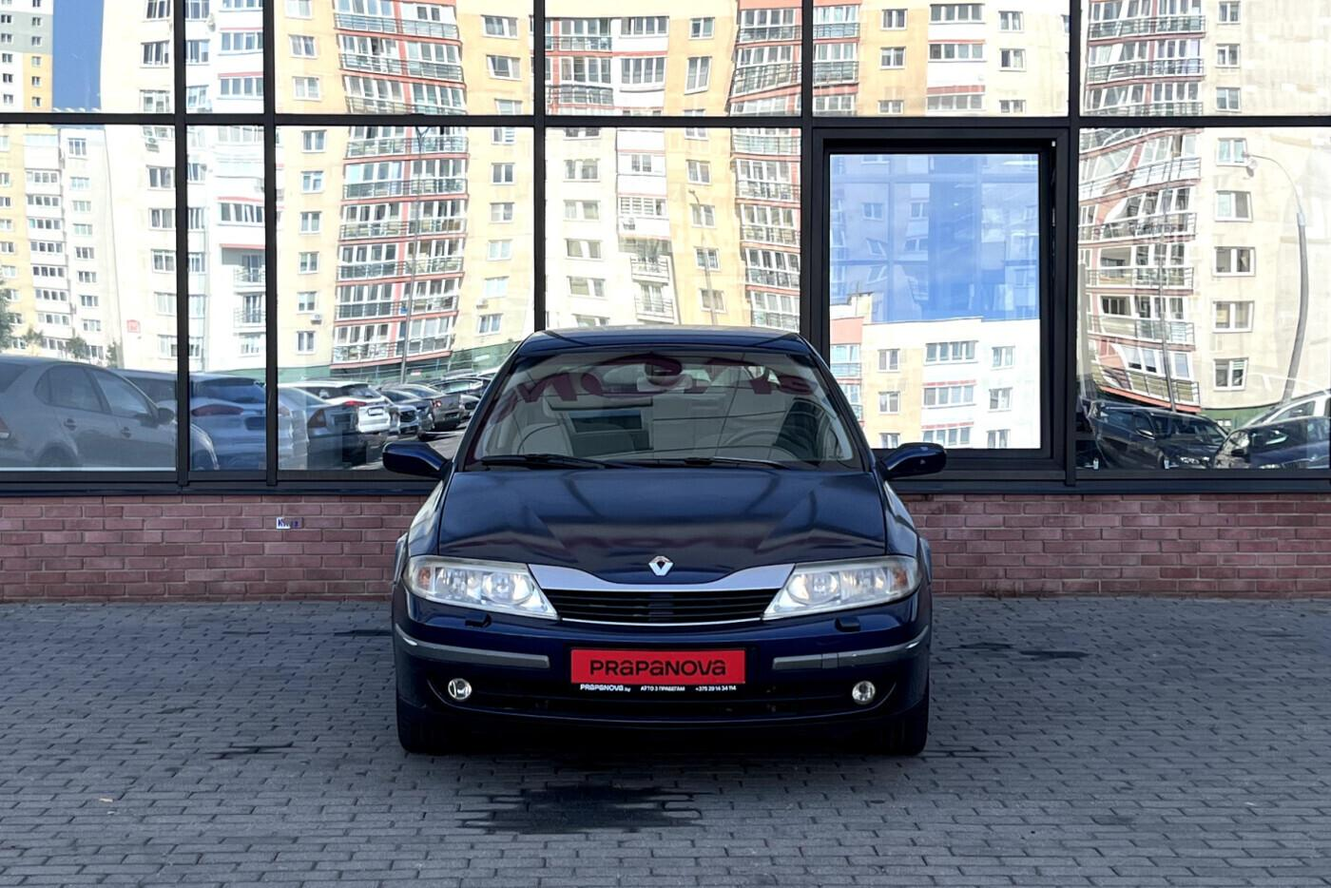Laguna_2001-2005: (385, 327, 945, 753)
